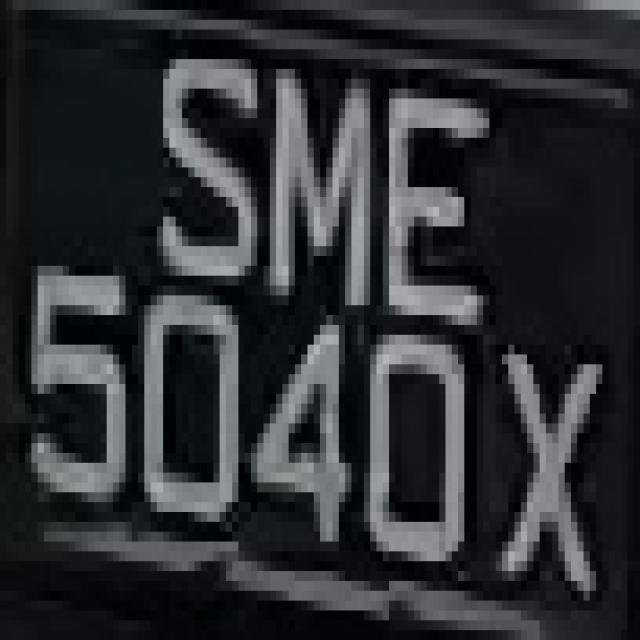0: (358, 315, 477, 620), (138, 256, 251, 532)
4: (251, 276, 364, 571)
5: (19, 226, 125, 512)
E: (377, 59, 483, 325)
M: (245, 39, 389, 335)
S: (132, 30, 264, 315)
X: (489, 305, 608, 601)
